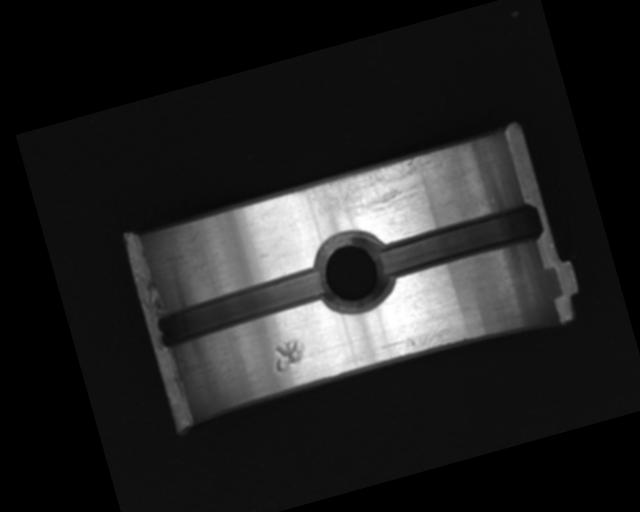bruise: (268, 336, 311, 374)
gap: (151, 264, 333, 354), (373, 201, 545, 282)
hole: (305, 222, 400, 323)
scratch: (288, 147, 455, 237)
